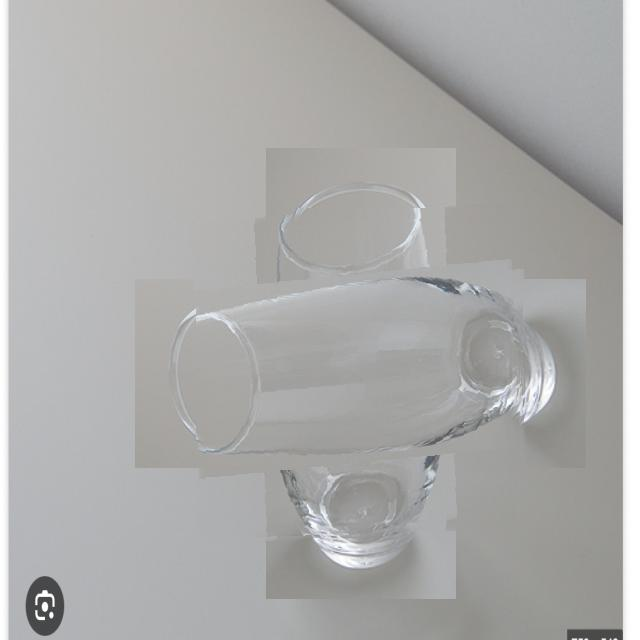recyclable: (196, 208, 526, 539)
